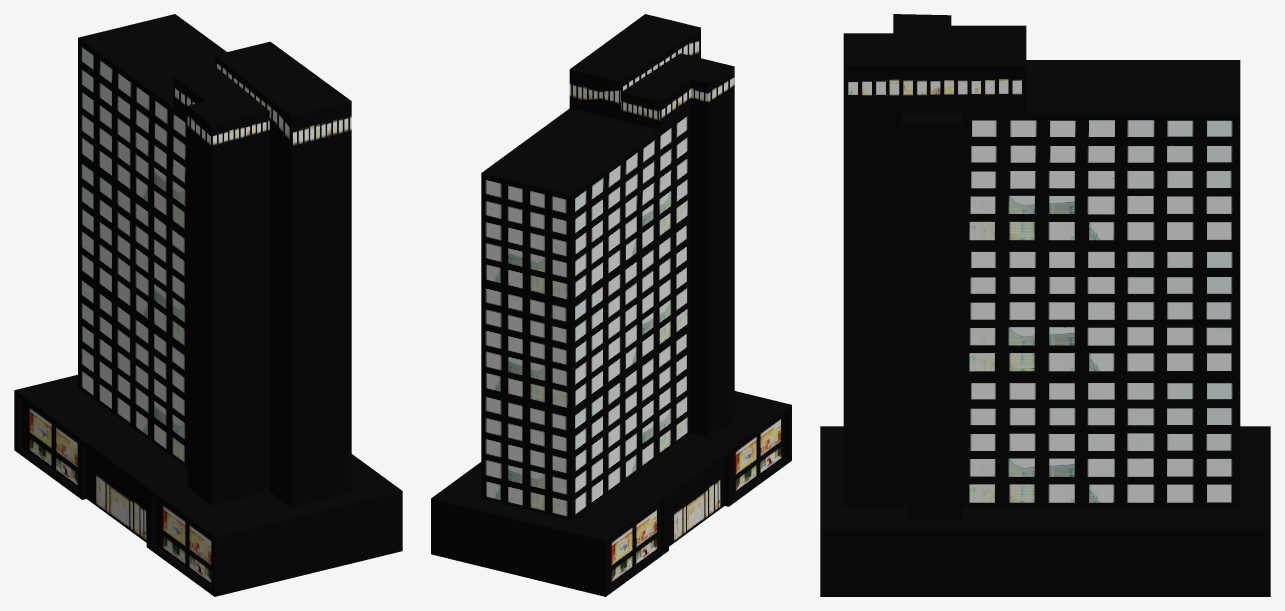
Rendered from building14.FBX.
3 views of the same model, side by side, from view 1: azimuth 30°, elevation 25°; view 2: azimuth 150°, elevation 25°; view 3: azimuth 270°, elevation 25° (orthographic). The views are drawn at different scales.
Visible parts, largest first — view 1: Box001; view 2: Box001; view 3: Box001.
Boxes of the visible parts, <box> form: Box001: <box>14,14,402,596</box>; Box001: <box>431,14,791,596</box>; Box001: <box>820,14,1270,596</box>.
Bounding box in the file's own units: 163 × 376 × 302.
